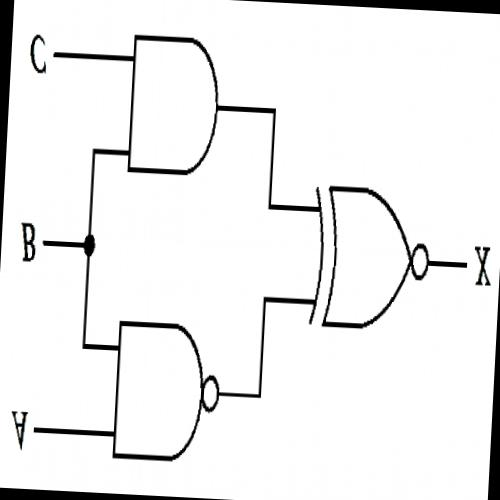and: (121, 23, 224, 188)
nand: (106, 312, 228, 472)
xnor: (300, 166, 436, 344)
